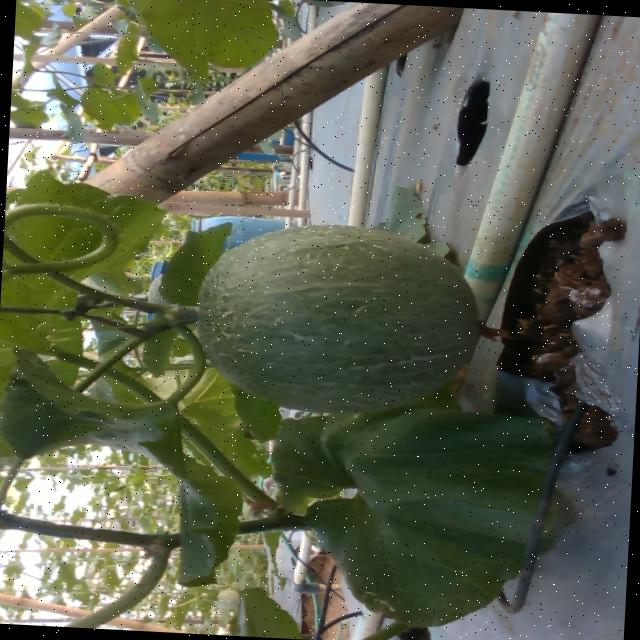melon: (198, 223, 480, 409)
